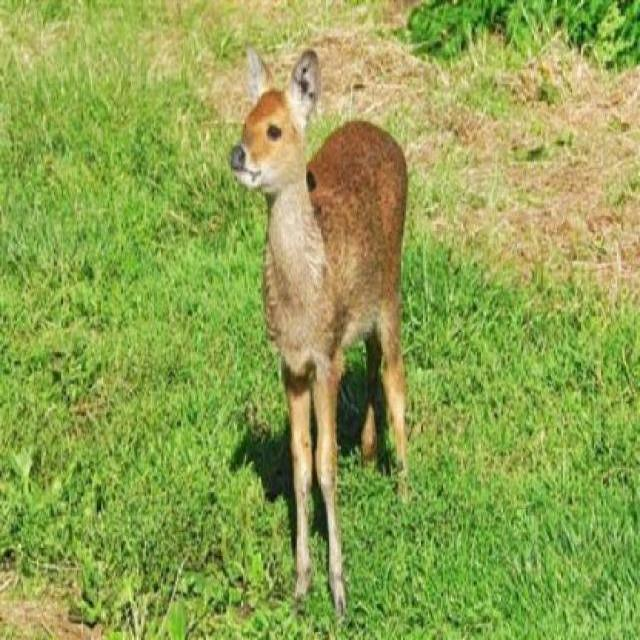deer: (222, 44, 436, 611)
